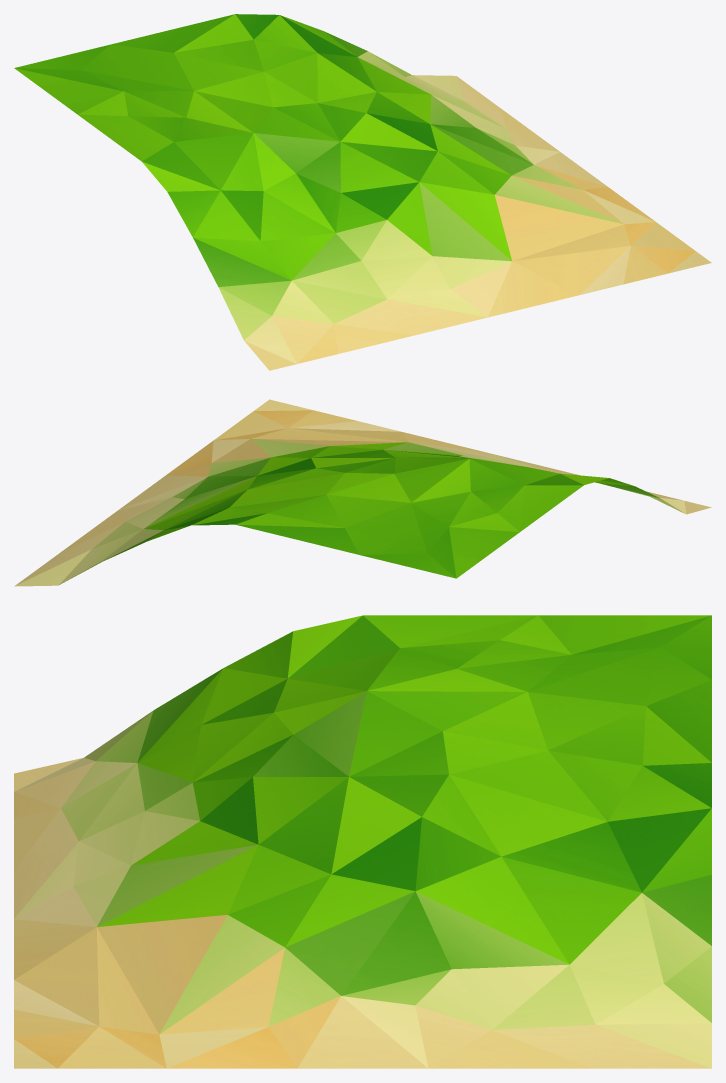
Rendered from GL-Terrain-part-04-LOD3.fbx.
3 views of the same model, one above another, from view 1: azimuth 30°, elevation 25°; view 2: azimuth 150°, elevation 25°; view 3: azimuth 270°, elevation 25° (orthographic). The views are drawn at different scales.
Parts seen in each view (by area): view 1: GL_Terrain_part_04; view 2: GL_Terrain_part_04; view 3: GL_Terrain_part_04.
Part boxes in pixels (x1=…): GL_Terrain_part_04: x1=14, y1=14, x2=711, y2=370; GL_Terrain_part_04: x1=14, y1=399, x2=711, y2=586; GL_Terrain_part_04: x1=14, y1=615, x2=711, y2=1068.
Bounding box in the file's own units: 12 × 3 × 12.
